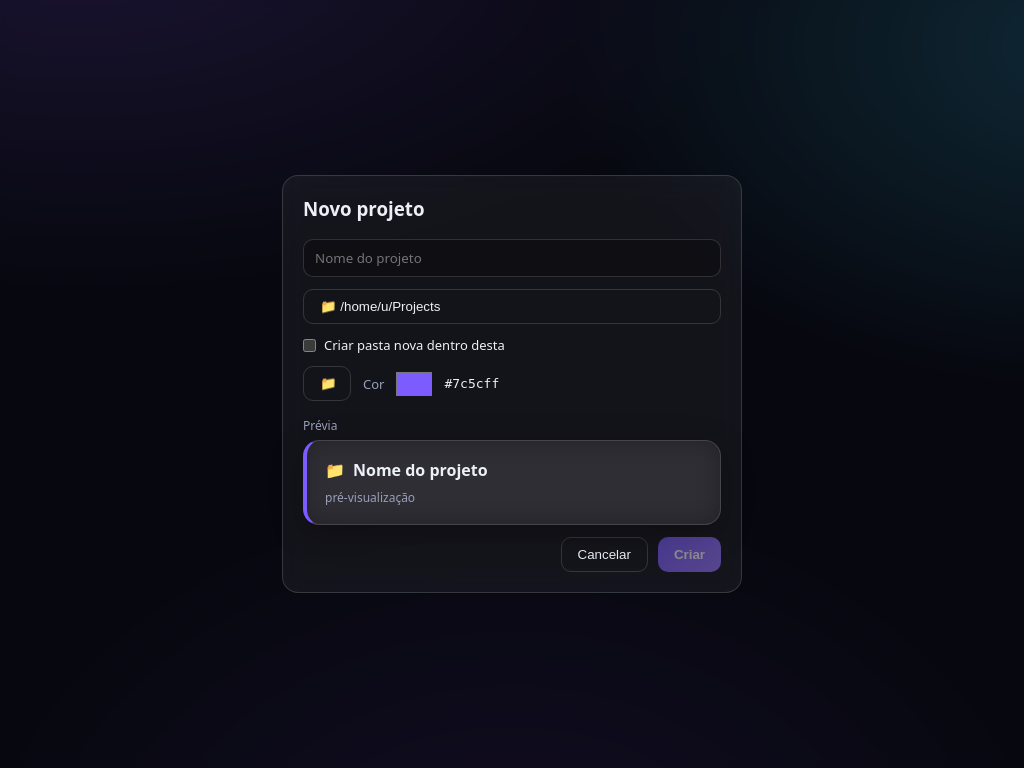
NewProjectModal › pasta padrão › vem com a pasta padrão preenchida e já permite criar
Expected: the text "/home/u/Projects" is shown, [340,299,440,314]
In the field with placeholder "Nome do projeto": (512, 258) [303,239,721,277], type "P"
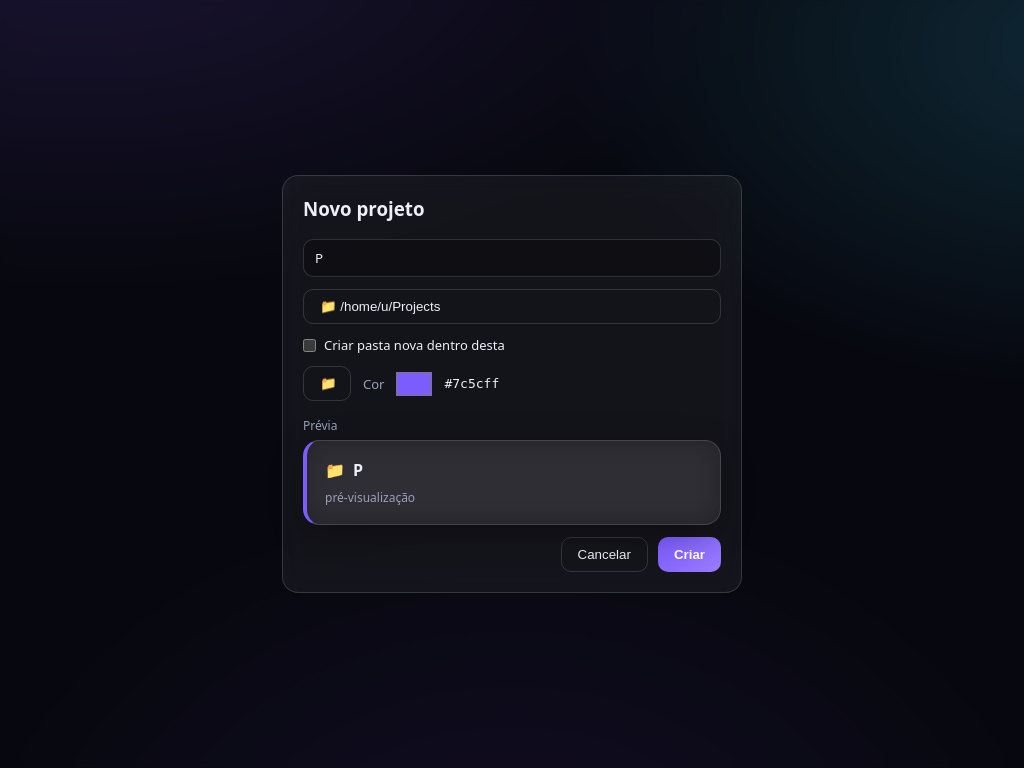
Now the button "Criar" is enabled, box [658,537,721,572]
